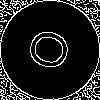O: (25, 25, 82, 77)
